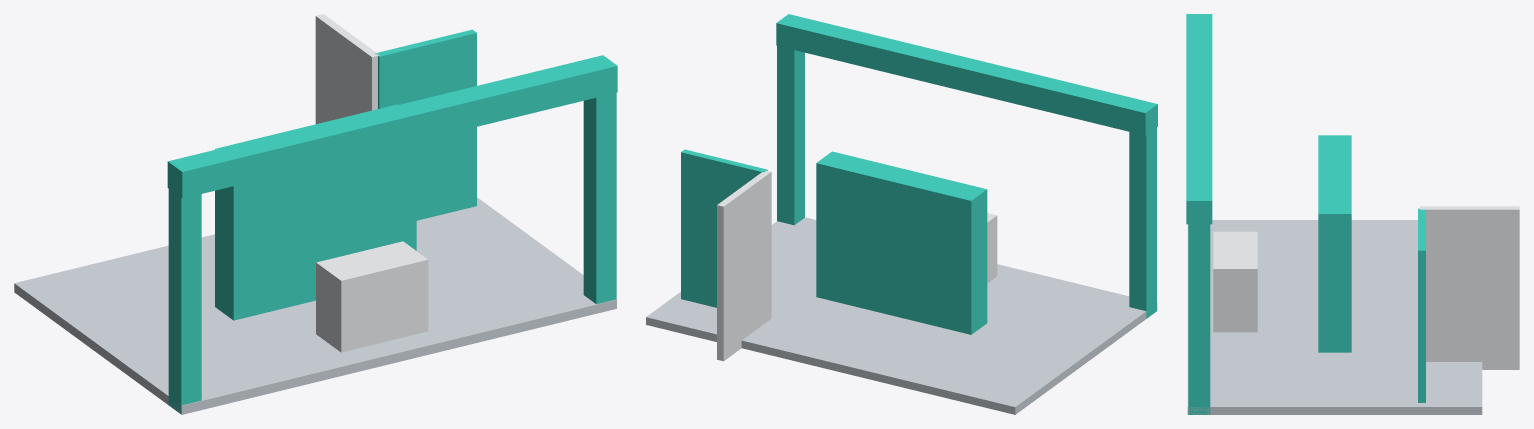
3 renders of one model, left to right at view 1: azimuth 30°, elevation 25°; view 2: azimuth 150°, elevation 25°; view 3: azimuth 270°, elevation 25°, orthographic. The views are drawn at different scales.
Parts seen in each view (by area): view 1: Exhibition Booth Concept; view 2: Exhibition Booth Concept; view 3: Exhibition Booth Concept.
Part boxes in pixels (left/top/right/bottom): Exhibition Booth Concept: left=14, top=14, right=617, bottom=414; Exhibition Booth Concept: left=646, top=14, right=1157, bottom=414; Exhibition Booth Concept: left=1186, top=14, right=1519, bottom=414.
Bounding box in the file's own units: 6 × 3.2 × 4.52.
